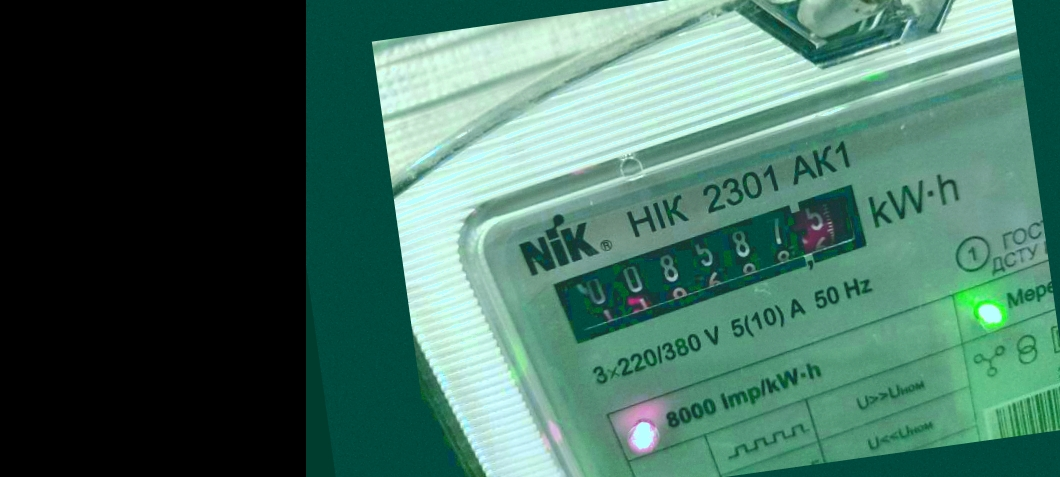0: (617, 258, 648, 296), (581, 271, 611, 307)
5: (691, 235, 718, 269), (801, 198, 827, 232)
6: (811, 232, 831, 252)
7: (763, 212, 790, 249)
8: (655, 249, 684, 284), (727, 224, 754, 260)
screen: (537, 179, 897, 348)
